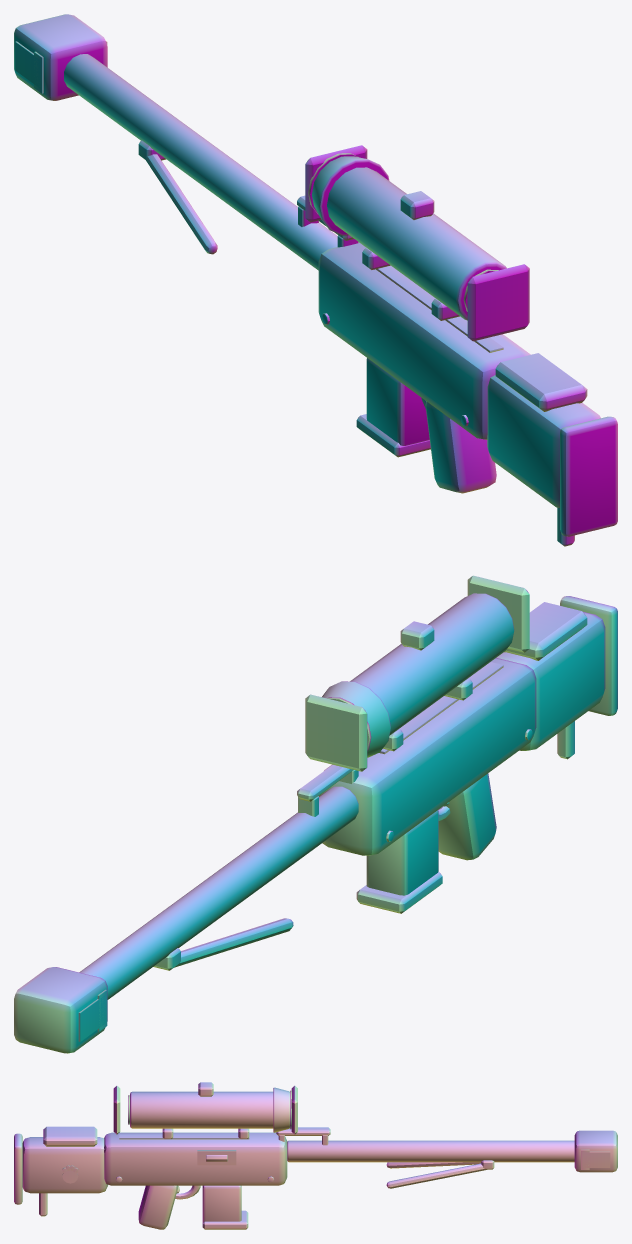
File: wpn_amr.glb
The picture shows the model from 3 angles, top to bottom: view 1: azimuth 30°, elevation 25°; view 2: azimuth 150°, elevation 25°; view 3: azimuth 270°, elevation 25°; orthographic projection. The views are drawn at different scales.
Visible parts, largest first — view 1: wpn_amr_mesh; view 2: wpn_amr_mesh; view 3: wpn_amr_mesh.
Boxes of the visible parts, x1=… form: wpn_amr_mesh: x1=14, y1=14, x2=617, y2=546; wpn_amr_mesh: x1=14, y1=575, x2=617, y2=1053; wpn_amr_mesh: x1=14, y1=1082, x2=617, y2=1229.
Bounding box in the file's own units: 0.0508 × 0.1442 × 0.557.
